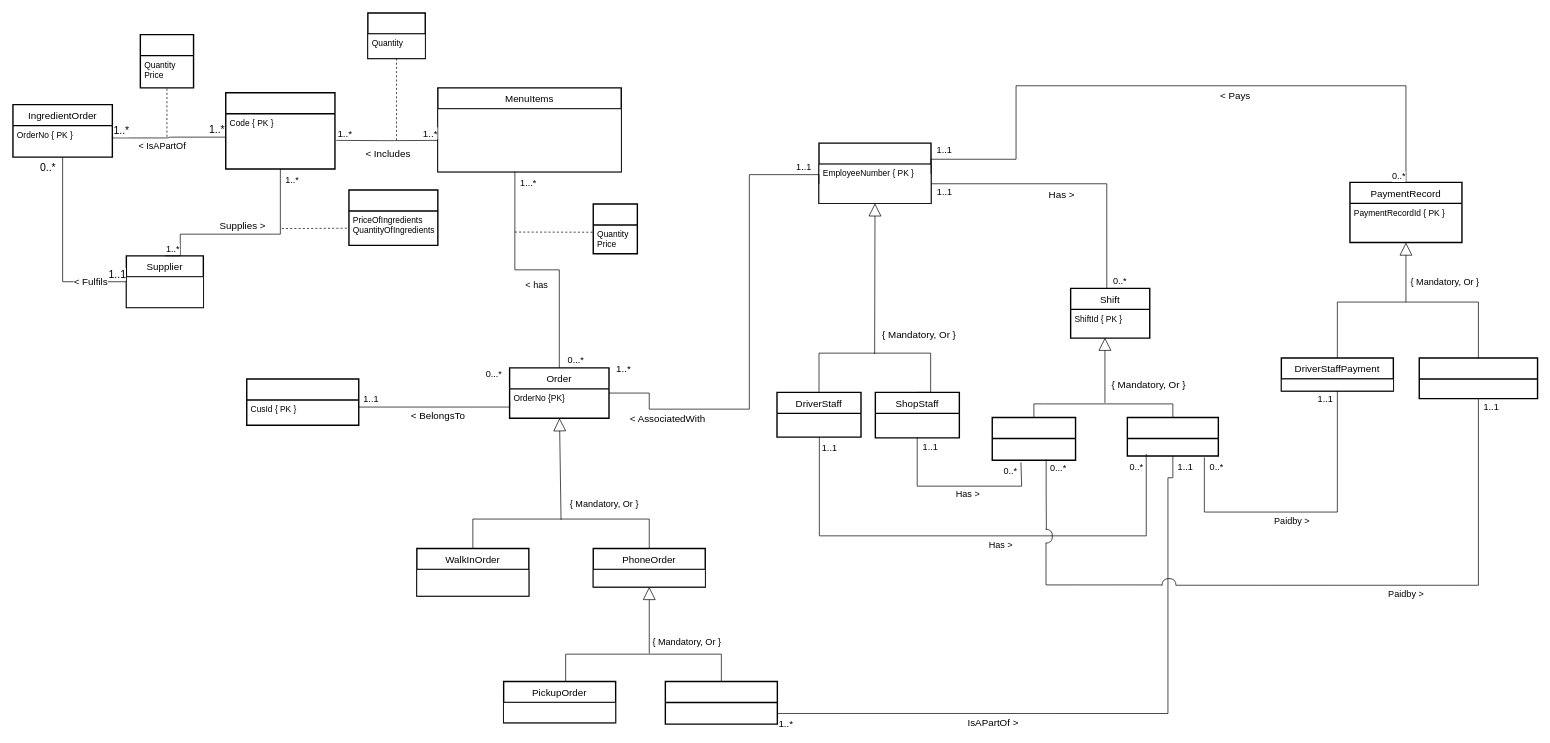
Image size: 1550x743. Some labels were removed from this diagram. The box of each missing label's shape, as (x1, y1, x2, y2) in pixels:
Customer: (246, 378, 359, 426)
DeliveryOrder: (664, 680, 778, 724)
DeliveryStaffShift: (1126, 416, 1219, 456)
Ingredient: (225, 92, 335, 169)
ItemCode { PK }: (437, 108, 621, 172)
ShopStaffShift: (991, 416, 1076, 461)
Staff: (818, 142, 931, 204)
StoreStaffPayment: (1418, 357, 1538, 399)
SupplierNo { PK }: (126, 276, 203, 308)
